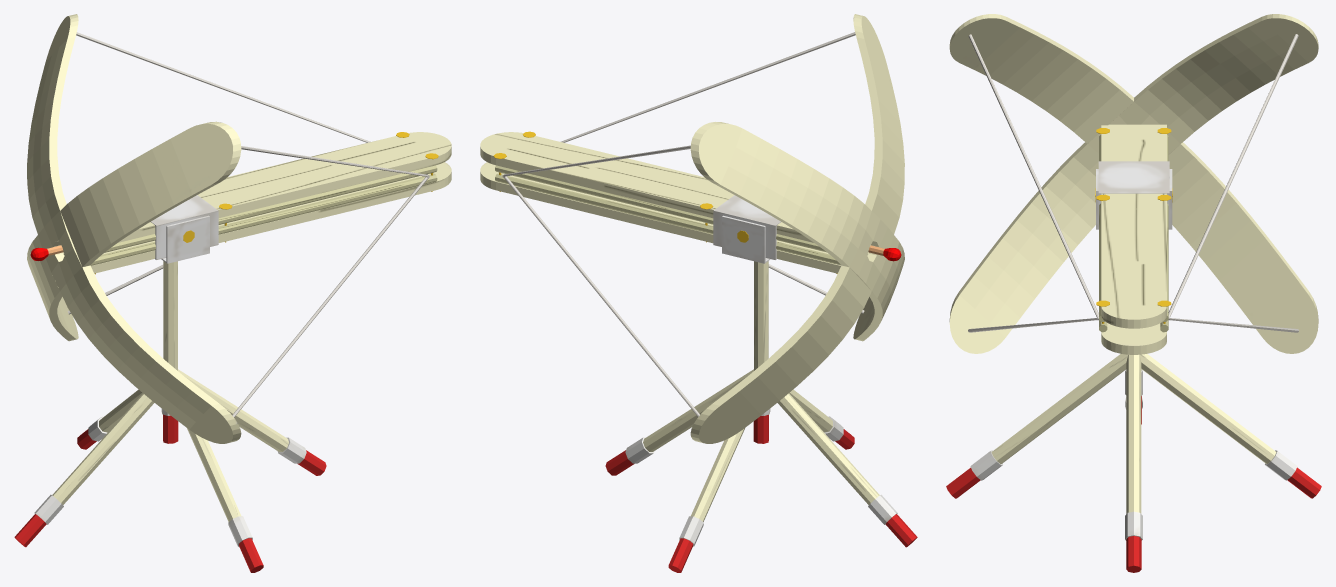
Rendered from Gilbert_Scorpion_Ballista.fbx.
3 views of the same model, side by side, from view 1: azimuth 30°, elevation 25°; view 2: azimuth 150°, elevation 25°; view 3: azimuth 270°, elevation 25° (orthographic). The views are drawn at different scales.
Parts seen in each view (by area): view 1: Top, Bottom; view 2: Top, Bottom; view 3: Top, Bottom.
Part boxes in pixels (bbox=[...]): Top: bbox=[27, 14, 451, 443]; Bottom: bbox=[14, 261, 326, 572]; Top: bbox=[480, 14, 904, 443]; Bottom: bbox=[605, 261, 917, 572]; Top: bbox=[949, 14, 1318, 354]; Bottom: bbox=[946, 354, 1321, 572].
Size of the model in its own units: 1591 by 1571 by 1141.
